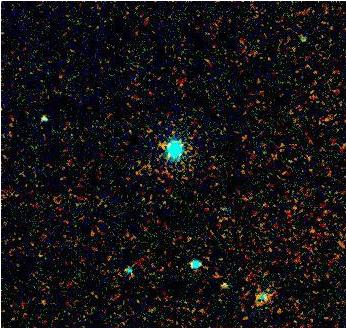star: (286, 24, 316, 54)
